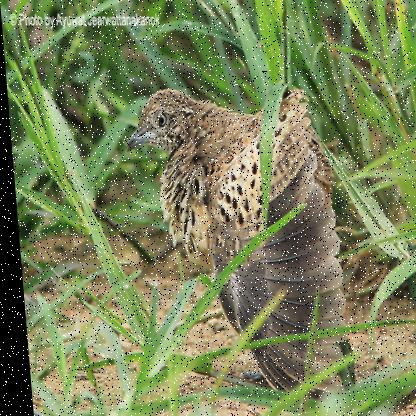Burung: (118, 87, 346, 392)
